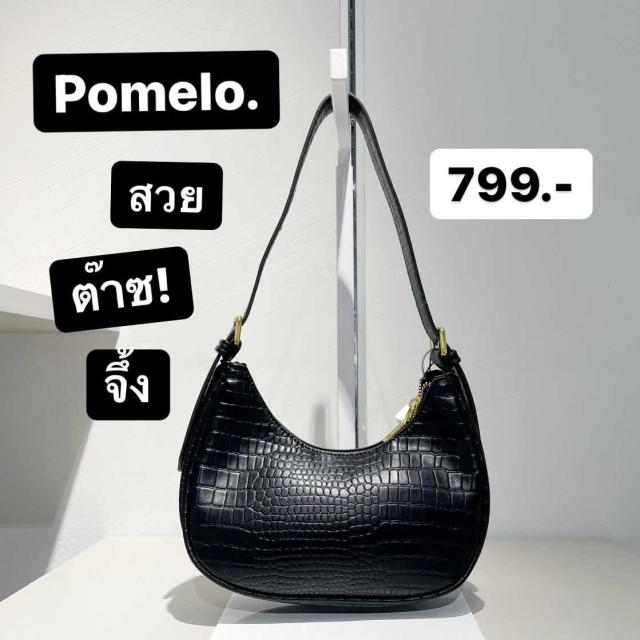Handbag: (175, 277, 503, 617)
